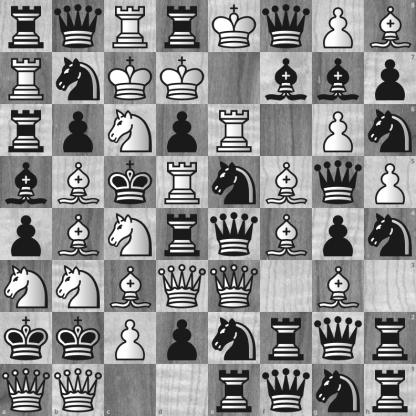B: (364, 0, 416, 52), (53, 157, 104, 208), (53, 209, 104, 260), (105, 261, 156, 312), (261, 157, 312, 208), (261, 209, 312, 260), (313, 261, 364, 312)
K: (105, 53, 156, 104), (157, 53, 208, 104), (209, 1, 260, 52)
N: (1, 261, 52, 312), (53, 261, 104, 312), (105, 105, 156, 156), (105, 209, 156, 260)
P: (364, 156, 416, 209), (105, 313, 156, 364), (313, 1, 364, 52), (313, 105, 364, 156)
Q: (0, 364, 52, 416), (52, 364, 104, 416), (157, 261, 208, 312), (209, 261, 260, 312)
R: (1, 53, 52, 104), (105, 1, 156, 52), (157, 157, 208, 208), (209, 105, 260, 156)
b: (1, 157, 52, 208), (261, 53, 312, 104), (313, 53, 364, 104)
board: (0, 0, 415, 415)
k: (1, 313, 52, 364), (53, 313, 104, 364), (105, 157, 156, 208)
n: (312, 364, 364, 416), (364, 104, 416, 156), (364, 209, 416, 260), (53, 53, 104, 104), (209, 157, 260, 208), (209, 313, 260, 364)
p: (364, 52, 416, 104), (1, 209, 52, 260), (53, 105, 104, 156), (157, 105, 208, 156), (157, 313, 208, 364), (313, 209, 364, 260)
q: (260, 364, 312, 416), (53, 1, 104, 52), (209, 209, 260, 260), (261, 1, 312, 52), (313, 157, 364, 208), (313, 313, 364, 364)
r: (364, 312, 416, 364), (364, 364, 416, 416), (209, 364, 260, 416), (1, 1, 52, 52), (1, 105, 52, 156), (157, 1, 208, 52), (157, 209, 208, 260), (261, 313, 312, 364)
